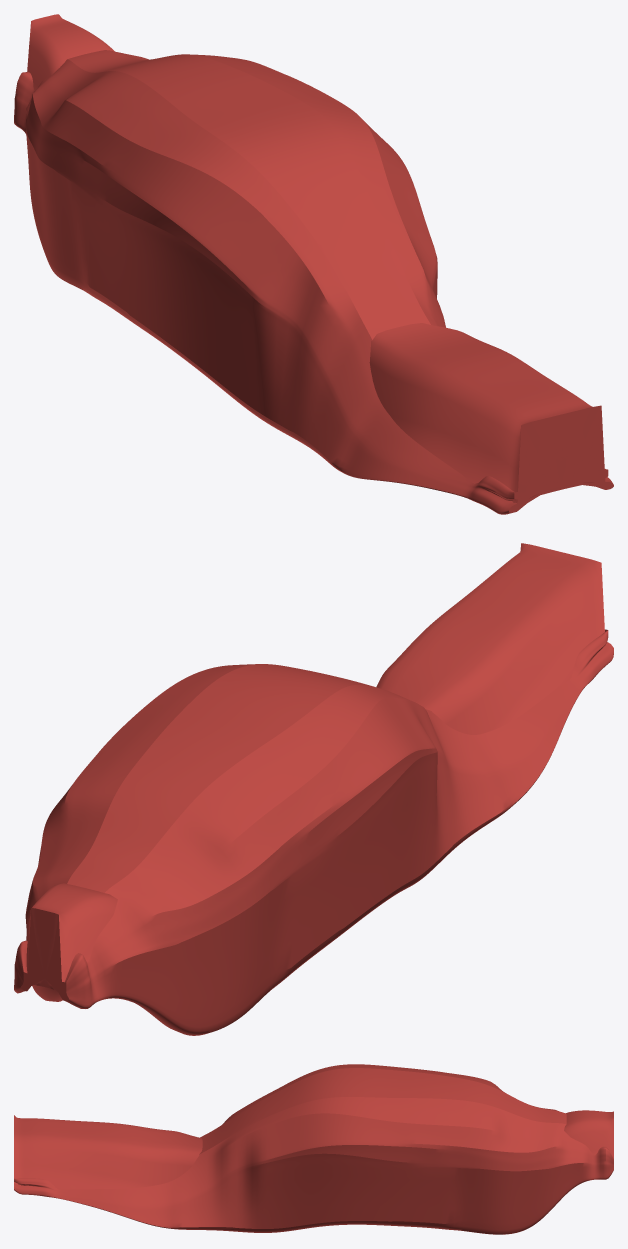
Rendered from adventure_2.glb.
3 renders of one model, top to bottom at view 1: azimuth 30°, elevation 25°; view 2: azimuth 150°, elevation 25°; view 3: azimuth 270°, elevation 25°, orthographic. The views are drawn at different scales.
Parts seen in each view (by area): view 1: lod0; view 2: lod0; view 3: lod0.
Part boxes in pixels (x1,y1,x2,y2): lod0: (14,14,613,514); lod0: (14,543,613,1035); lod0: (14,1064,613,1234).
Size of what is drawn, in the model's own units: 0.4348 by 0.3867 by 1.61.
